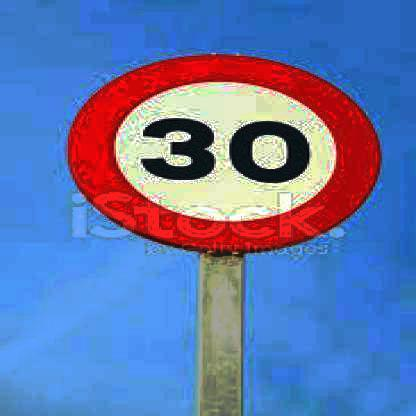Speed Limit -30-: (60, 51, 383, 261)
